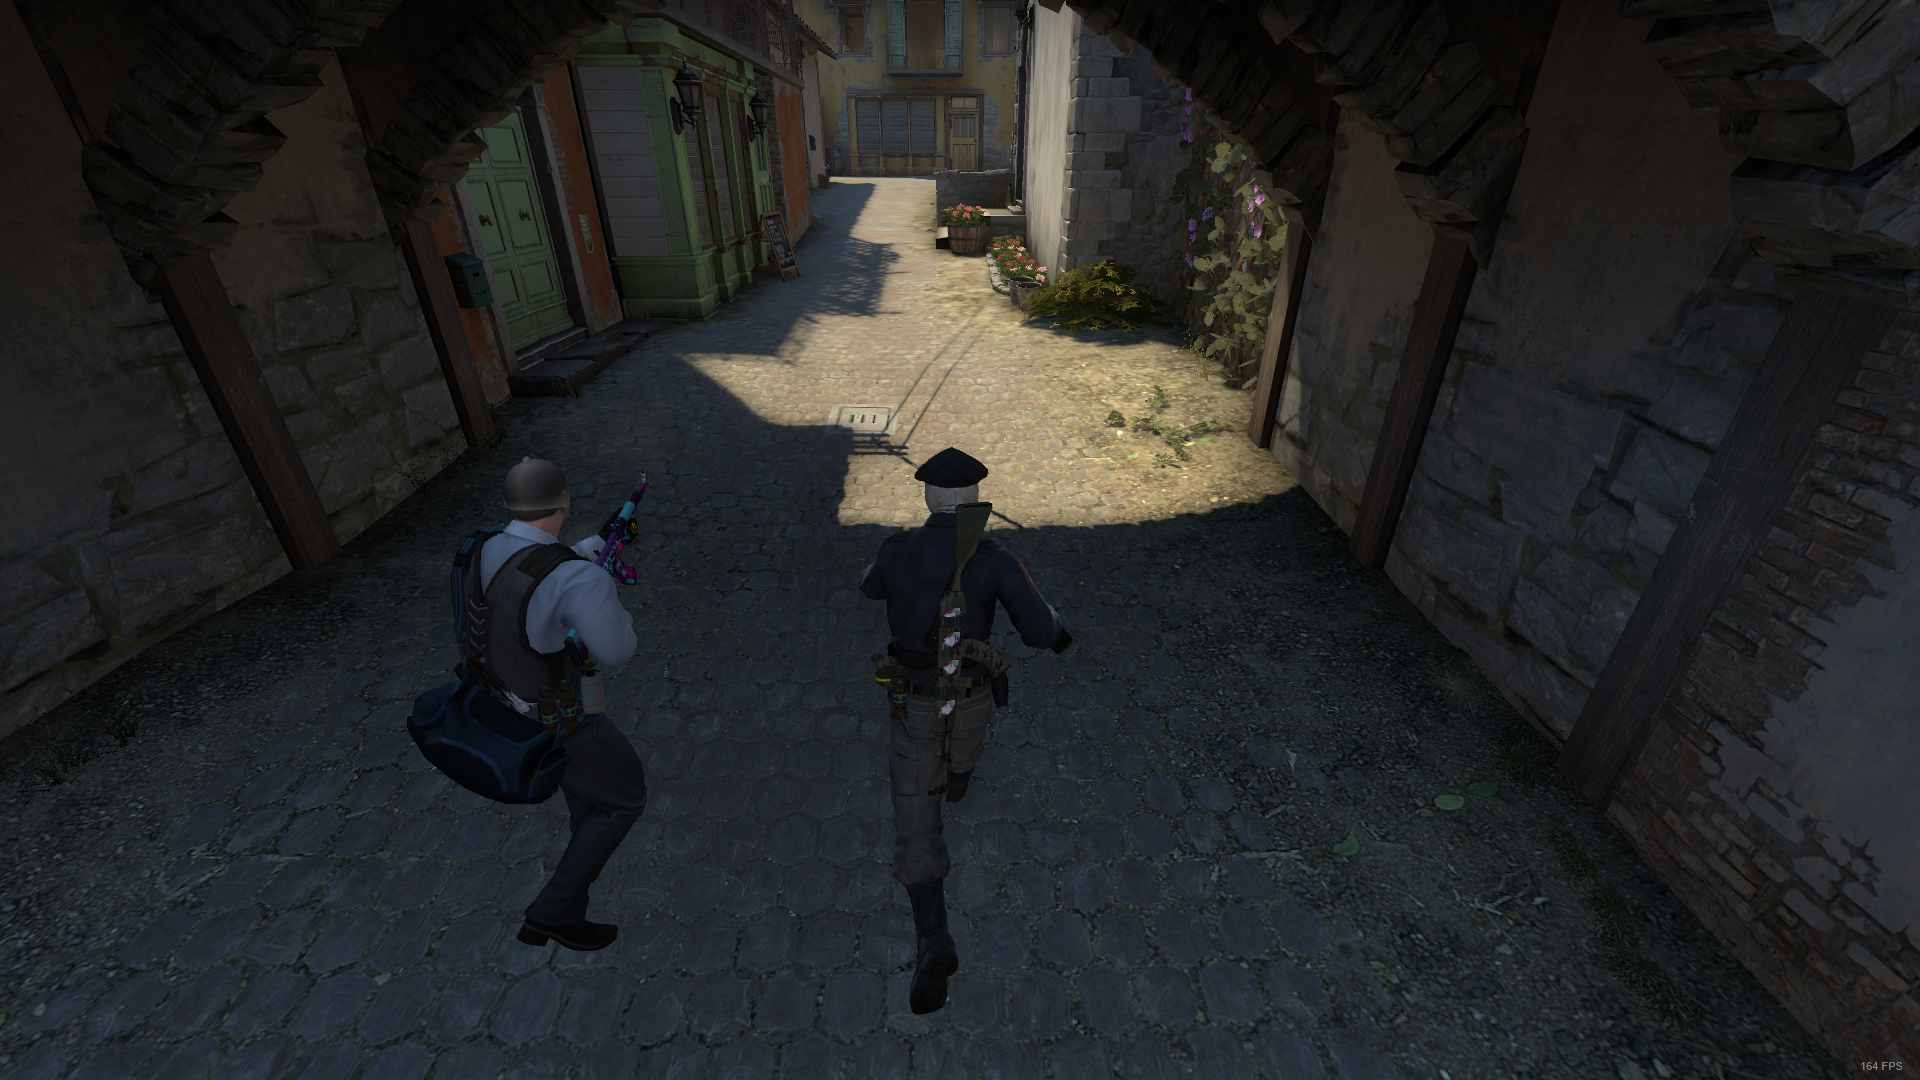t: (822, 438, 1083, 1039)
